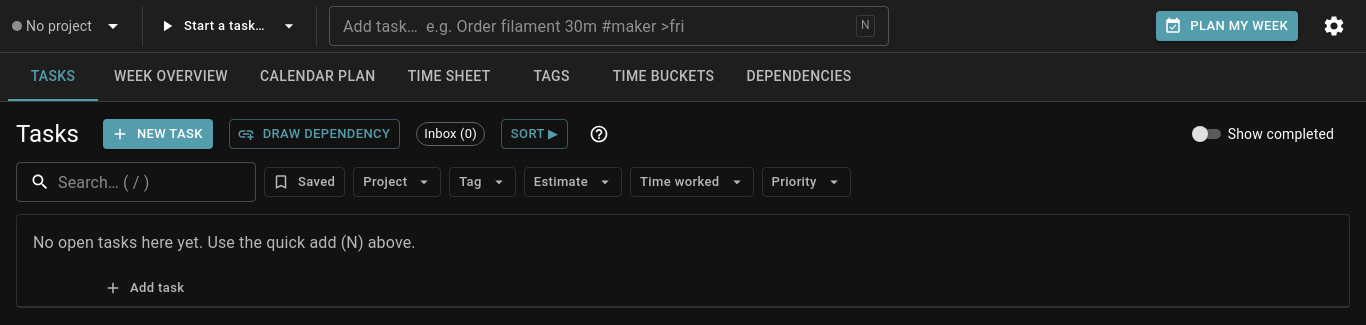
Tabs (T-2) › the Time Sheet tab shows this month’s time sheet (README: Time sheet)
Click the tab "Time Sheet" at coordinates (449, 77), box [392,53,507,101]
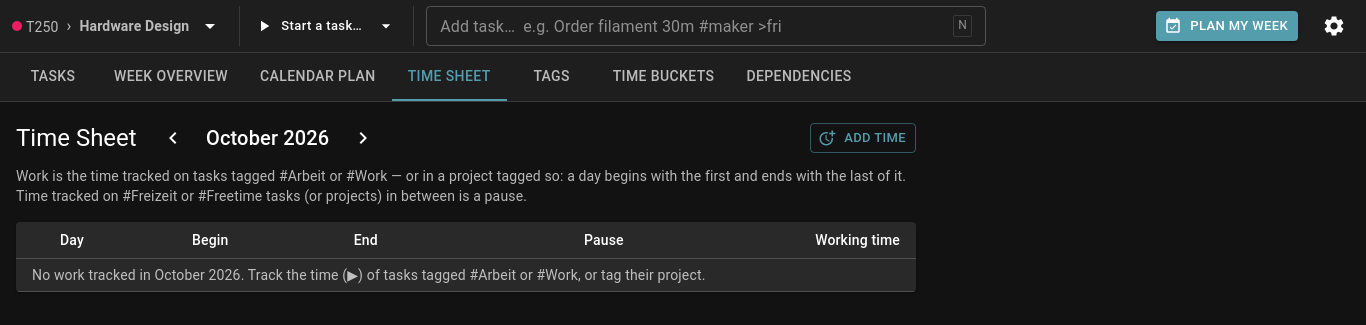
Expected: the table named "time sheet" is shown, [16,222,916,292]
